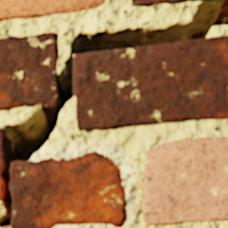brick: (73, 36, 227, 131), (140, 137, 227, 224), (0, 34, 57, 110), (0, 0, 105, 20), (130, 0, 216, 7)
broken_brick: (9, 151, 125, 227), (0, 128, 5, 200)
crack: (0, 0, 227, 227)
